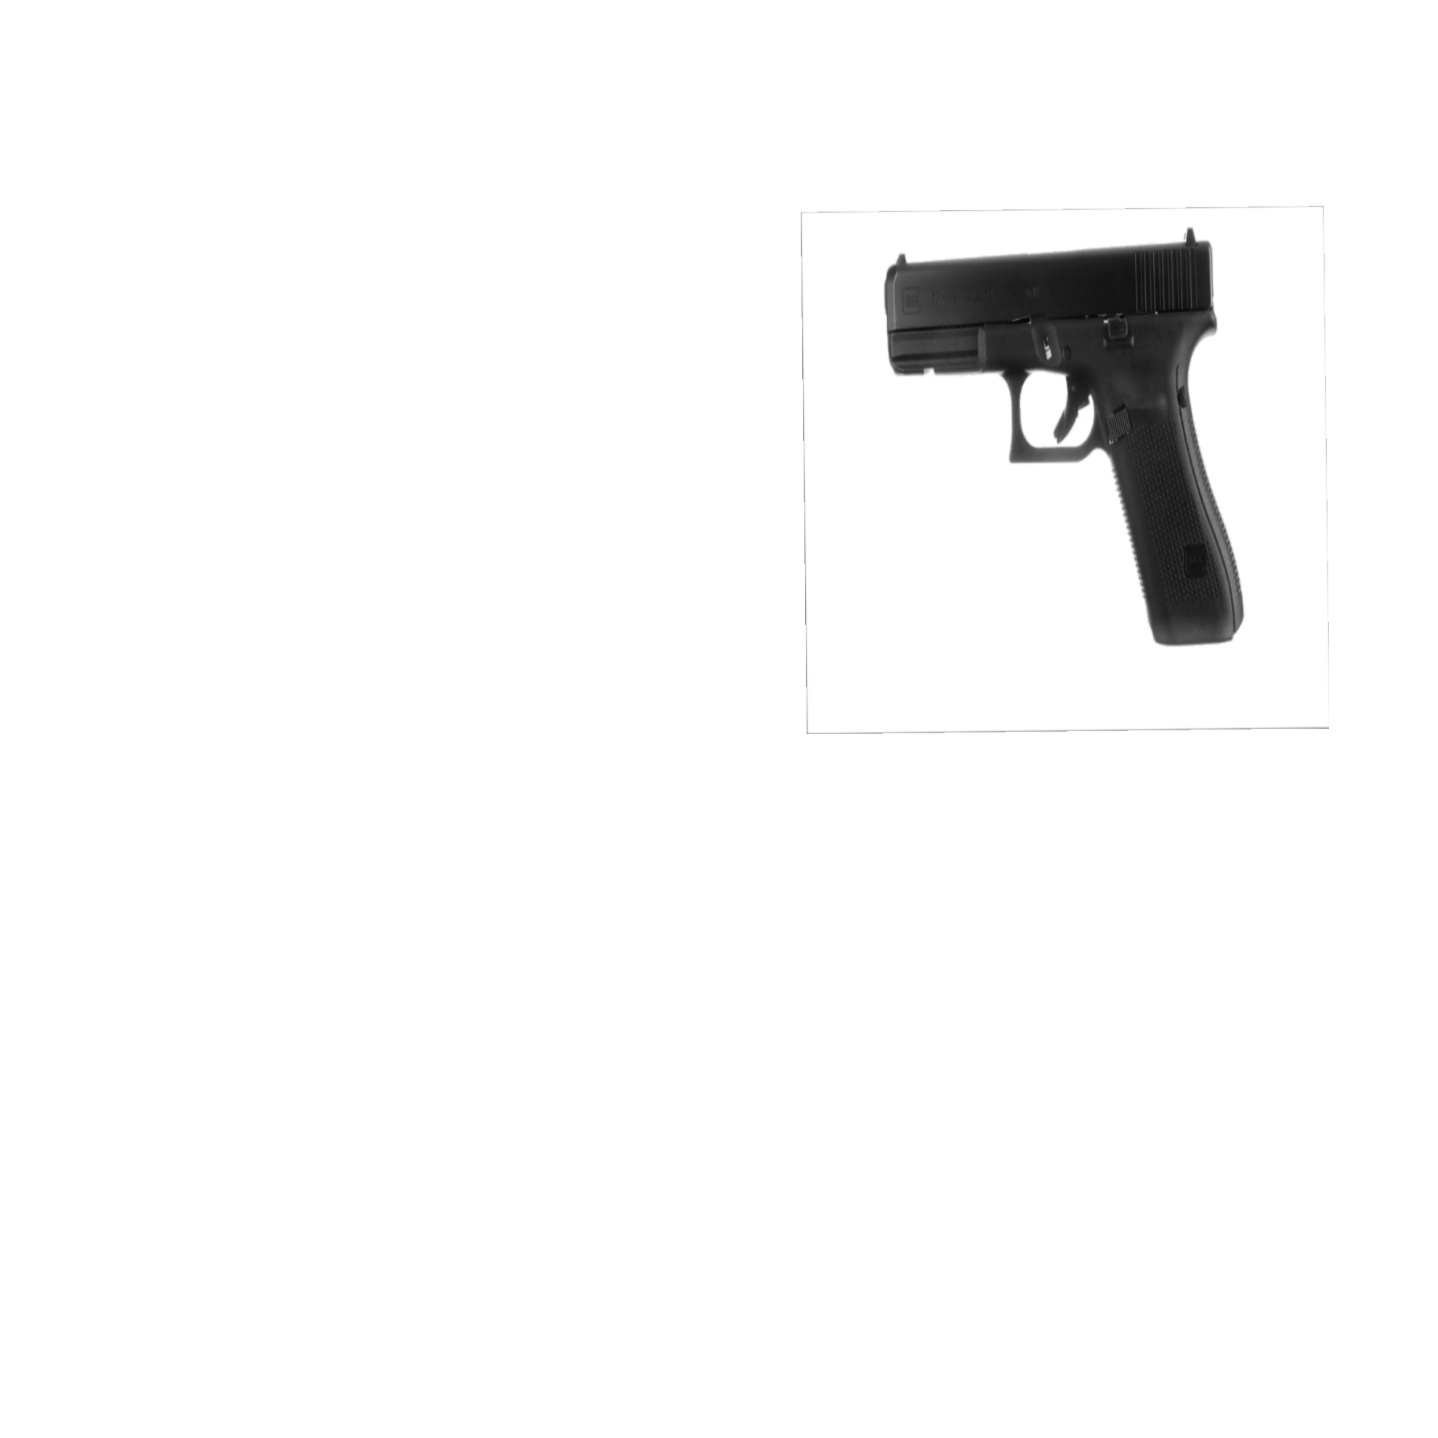gun: (880, 220, 1250, 651)
